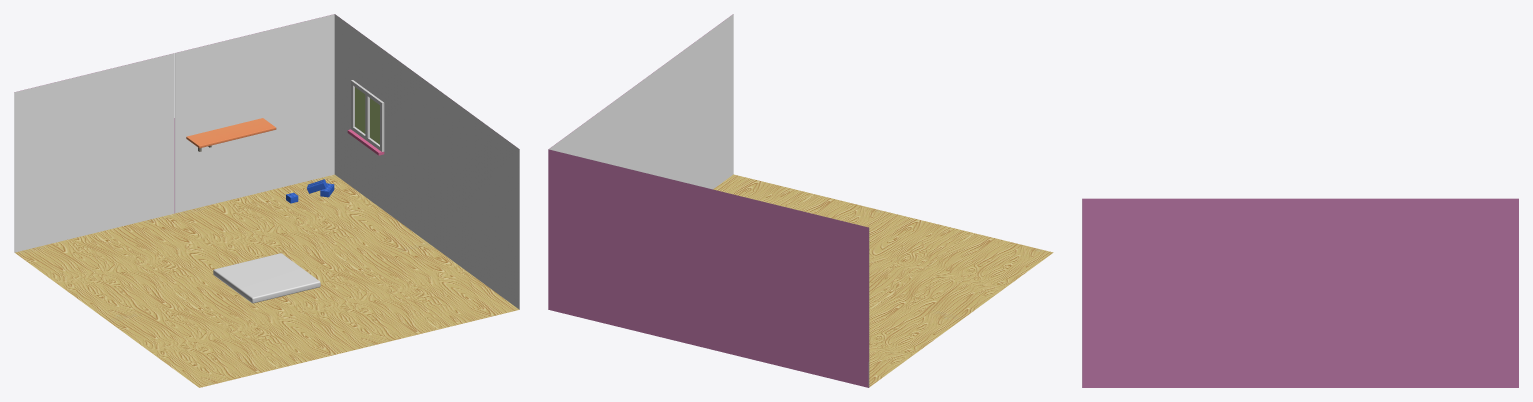
File: room.fbx
The picture shows the model from 3 angles, left to right: view 1: azimuth 30°, elevation 25°; view 2: azimuth 150°, elevation 25°; view 3: azimuth 270°, elevation 25°; orthographic projection. The views are drawn at different scales.
Parts seen in each view (by area): view 1: room, room_ek_2, room_ek_1, taban_ek_1, Cube.006, room.001, raf; view 2: room_ek_2, room, room_ek_1, taban_ek_1; view 3: room_ek_1, room.
Part boxes in pixels (box(x1,y1,x2,y2)): room: box(174, 14, 427, 271); room_ek_2: box(14, 53, 241, 320); room_ek_1: box(287, 82, 519, 348); taban_ek_1: box(107, 289, 358, 387); Cube.006: box(213, 253, 320, 303); room.001: box(347, 80, 384, 155); raf: box(186, 118, 276, 148); room_ek_2: box(708, 188, 960, 387); room: box(548, 82, 708, 348); room_ek_1: box(641, 14, 893, 230); taban_ek_1: box(869, 213, 1053, 319); room_ek_1: box(1082, 198, 1300, 387); room: box(1300, 198, 1518, 387).
Bounding box in the file's own units: 28.04 × 13.39 × 28.02.
